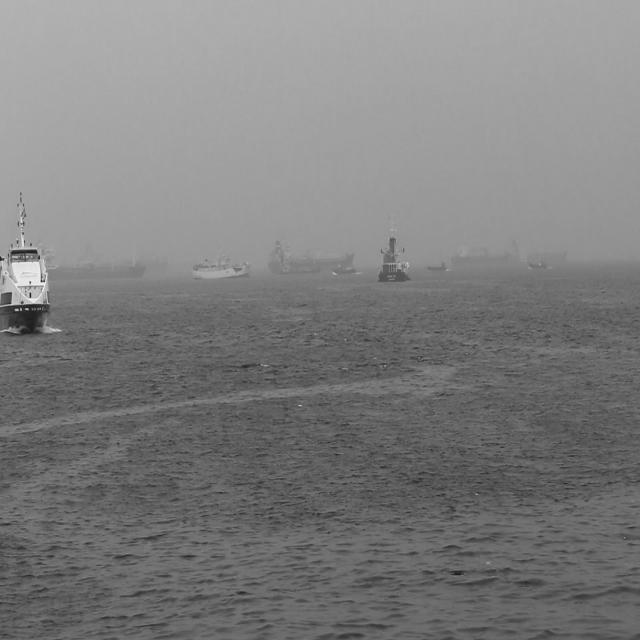ship: (0, 189, 51, 335), (42, 241, 148, 280), (267, 234, 356, 270), (378, 214, 408, 283), (446, 239, 520, 262), (192, 254, 252, 278), (526, 246, 570, 261), (333, 266, 356, 276), (529, 260, 549, 270), (425, 263, 447, 272)
